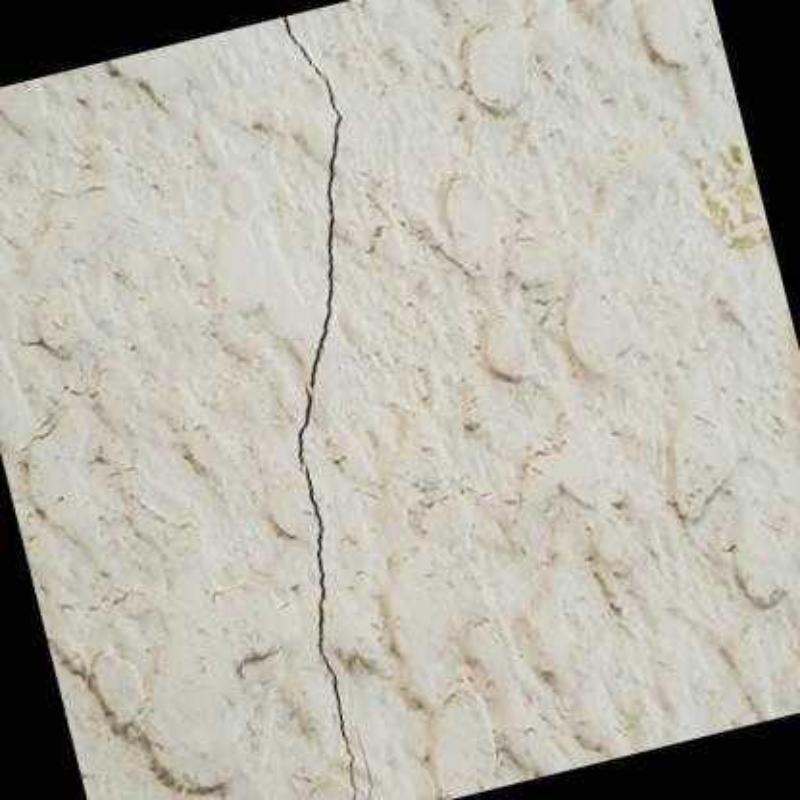pothole: (280, 16, 358, 800), (349, 695, 374, 800)
